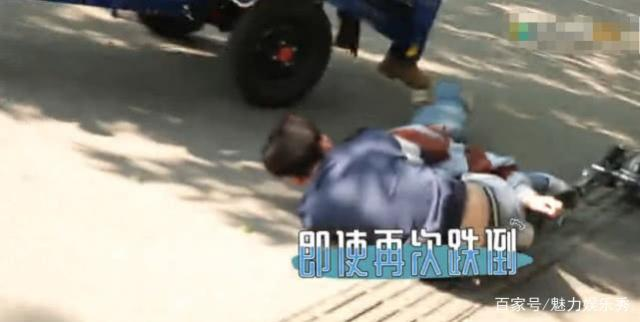fall: (249, 85, 593, 272)
